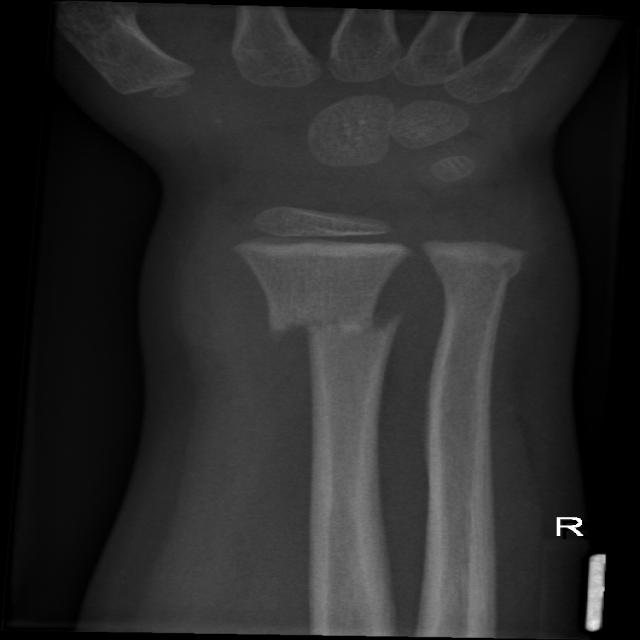radius fracture: (240, 285, 431, 375)
